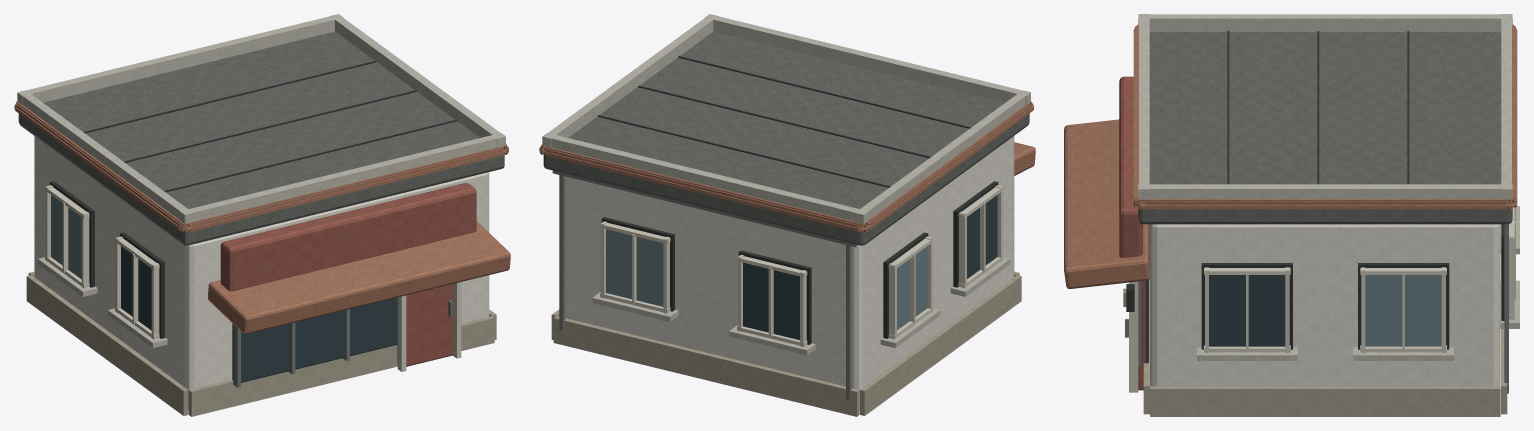
The model's file is COM_LOW_1x1_001.glb.
3 views of the same model, side by side, from view 1: azimuth 30°, elevation 25°; view 2: azimuth 150°, elevation 25°; view 3: azimuth 270°, elevation 25° (orthographic). The views are drawn at different scales.
Visible parts, largest first — view 1: COM_LOW_1x1_001_Visual; view 2: COM_LOW_1x1_001_Visual; view 3: COM_LOW_1x1_001_Visual.
Part boxes in pixels (x1,y1,x2,y2): COM_LOW_1x1_001_Visual: (14,14,510,416); COM_LOW_1x1_001_Visual: (539,14,1035,416); COM_LOW_1x1_001_Visual: (1064,14,1519,416).
Size of what is drawn, in the model's own units: 1.81 by 1.07 by 1.92.
12 materials, 6 textured.
